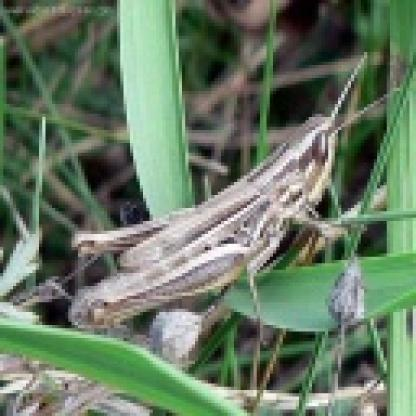grasshopper: (57, 55, 379, 362)
